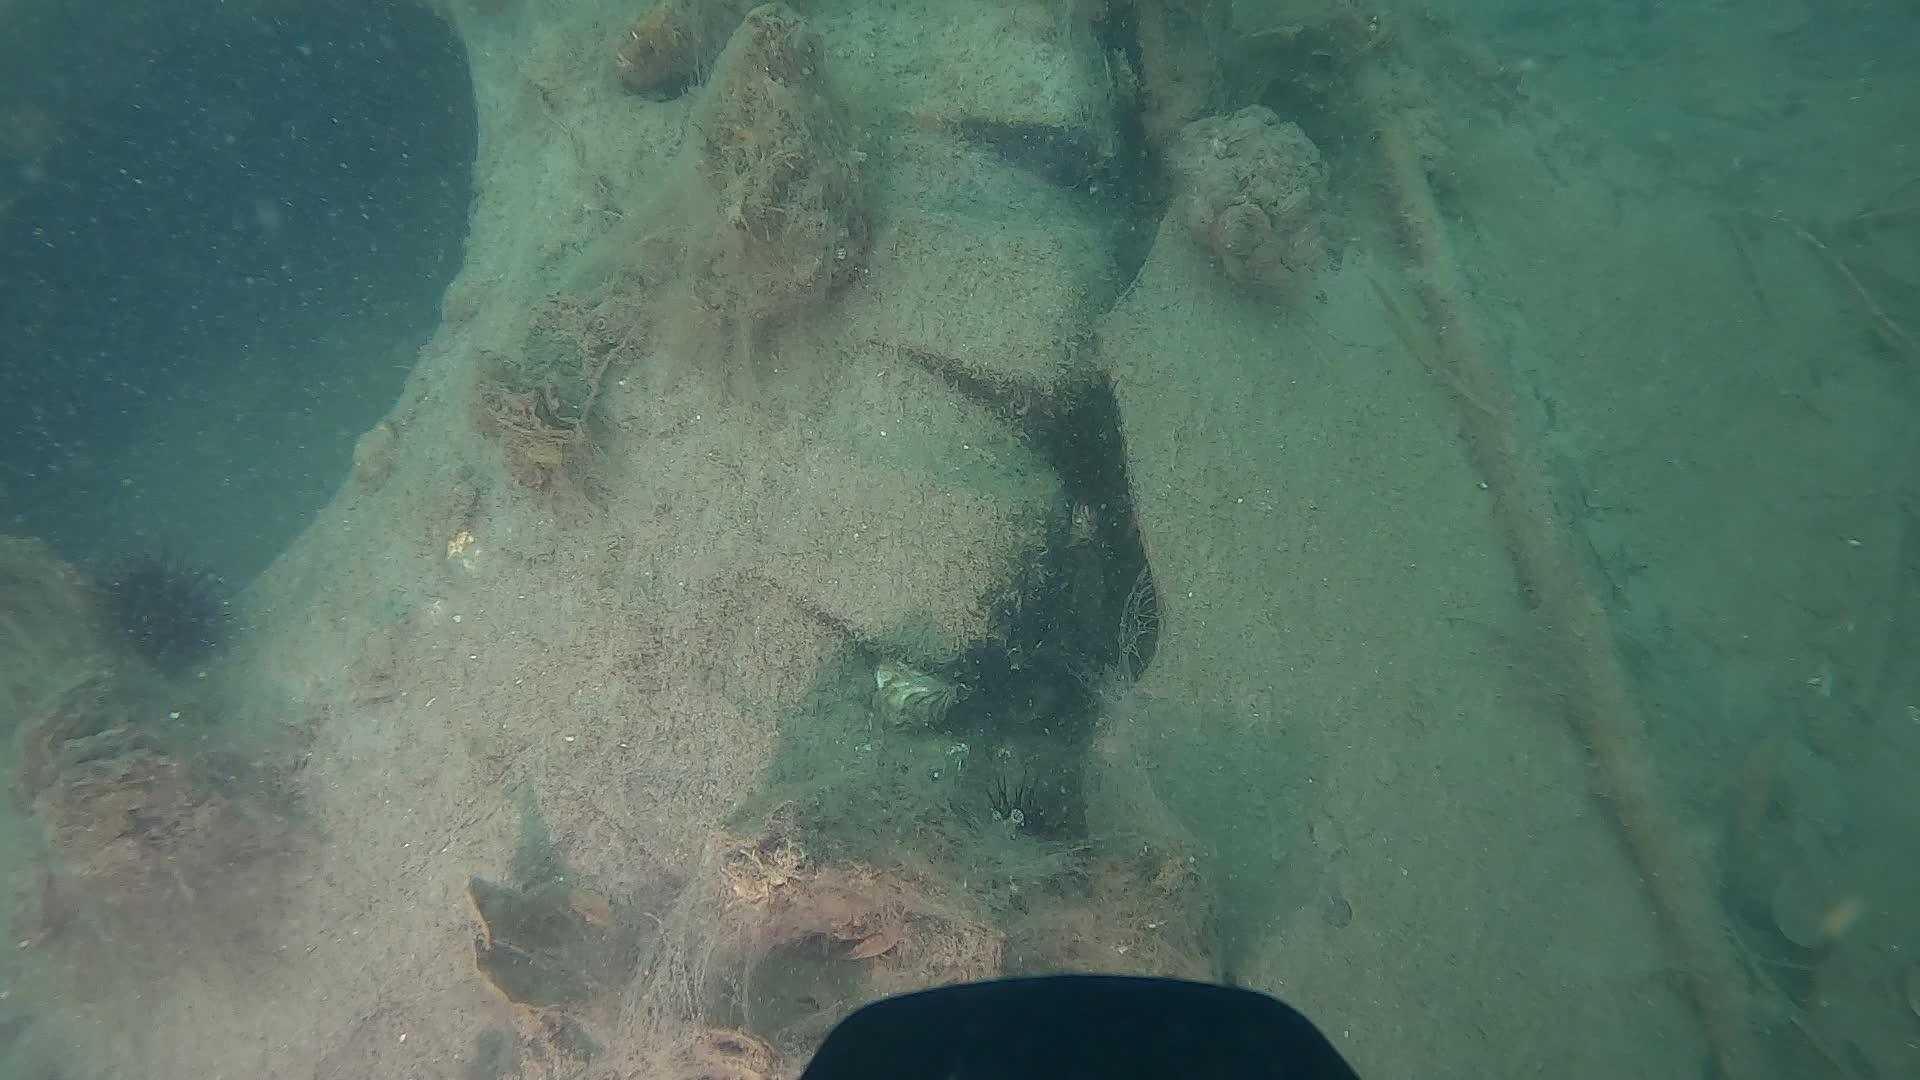tire: (0, 0, 1120, 1080)
